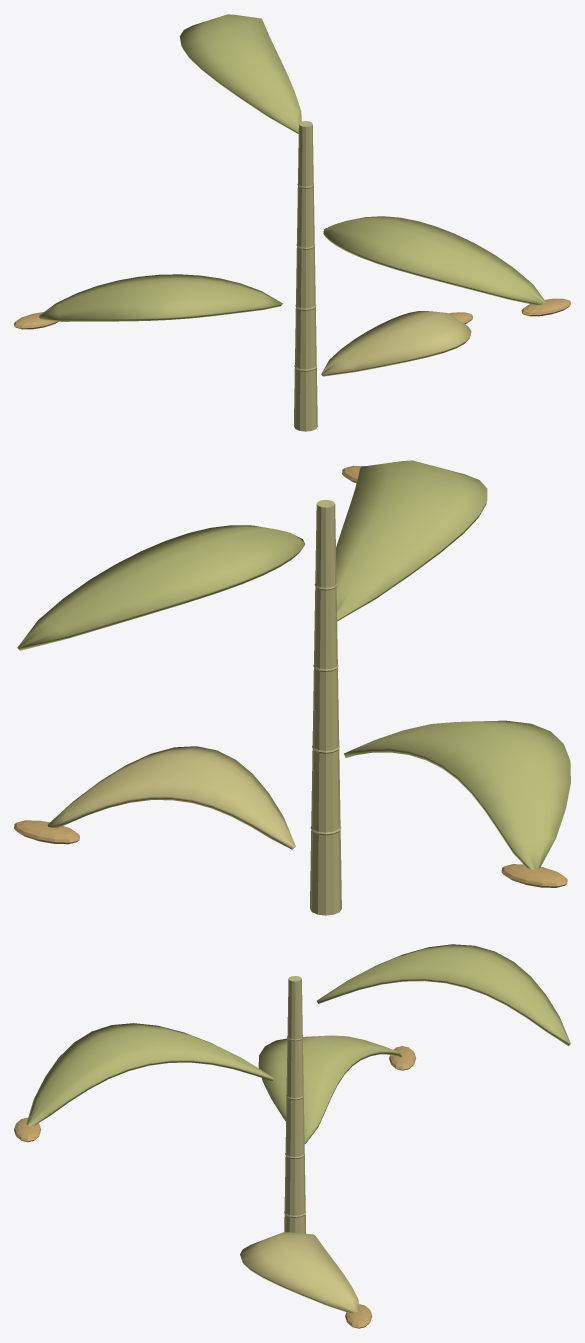
3 renders of one model, top to bottom at view 1: azimuth 30°, elevation 25°; view 2: azimuth 150°, elevation 25°; view 3: azimuth 270°, elevation 25°, orthographic. The views are drawn at different scales.
Parts seen in each view (by area): view 1: 叶片_03, 叶片_02, 叶片_04, 叶片_01, 茎节_01, 茎节_02, 茎节_03, 茎节_04, 茎节_05, 叶尖干枯_03; view 2: 叶片_02, 叶片_04, 叶片_03, 叶片_01, 茎节_01, 茎节_02, 茎节_03, 茎节_04, 茎节_05, 叶尖干枯_01, 叶尖干枯_02; view 3: 叶片_03, 叶片_04, 叶片_02, 叶片_01, 茎节_02, 茎节_03, 茎节_04, 茎节_05.
Boxes of the visible parts, x1=… form: 叶片_03: x1=323, y1=216, x2=545, y2=304; 叶片_02: x1=39, y1=274, x2=282, y2=321; 叶片_04: x1=179, y1=14, x2=301, y2=133; 叶片_01: x1=321, y1=311, x2=471, y2=376; 茎节_01: x1=294, y1=367, x2=317, y2=431; 茎节_02: x1=295, y1=307, x2=316, y2=369; 茎节_03: x1=296, y1=246, x2=315, y2=308; 茎节_04: x1=297, y1=186, x2=314, y2=247; 茎节_05: x1=298, y1=121, x2=313, y2=186; 叶尖干枯_03: x1=521, y1=298, x2=570, y2=316; 叶片_02: x1=344, y1=720, x2=570, y2=869; 叶片_04: x1=17, y1=525, x2=305, y2=650; 叶片_03: x1=336, y1=460, x2=487, y2=621; 叶片_01: x1=47, y1=746, x2=295, y2=849; 茎节_01: x1=310, y1=829, x2=341, y2=915; 茎节_02: x1=311, y1=748, x2=340, y2=832; 茎节_03: x1=312, y1=667, x2=339, y2=750; 茎节_04: x1=314, y1=586, x2=337, y2=669; 茎节_05: x1=315, y1=499, x2=336, y2=587; 叶尖干枯_01: x1=14, y1=820, x2=79, y2=844; 叶尖干枯_02: x1=501, y1=864, x2=567, y2=887; 叶片_03: x1=26, y1=1023, x2=274, y2=1125; 叶片_04: x1=316, y1=944, x2=570, y2=1045; 叶片_02: x1=258, y1=1035, x2=403, y2=1143; 叶片_01: x1=240, y1=1232, x2=359, y2=1312; 茎节_02: x1=284, y1=1155, x2=305, y2=1215; 茎节_03: x1=285, y1=1097, x2=304, y2=1156; 茎节_04: x1=286, y1=1038, x2=303, y2=1097; 茎节_05: x1=287, y1=976, x2=302, y2=1039.
Bounding box in the file's own units: 0.3927 × 0.2869 × 0.4503.
